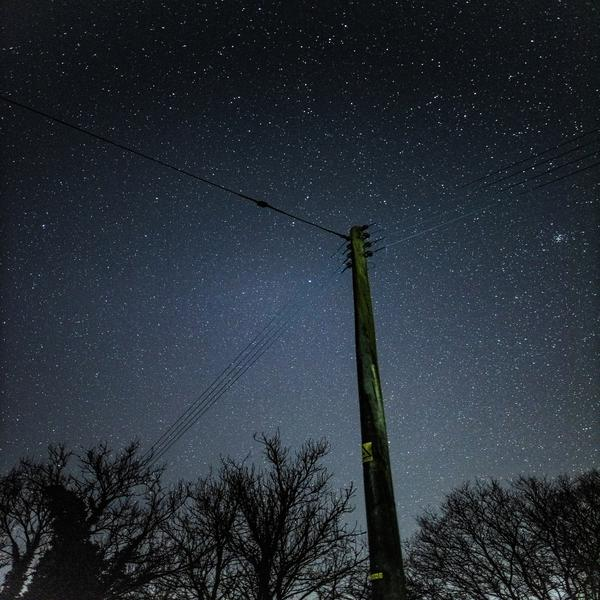utility_pole: (328, 216, 389, 300)
